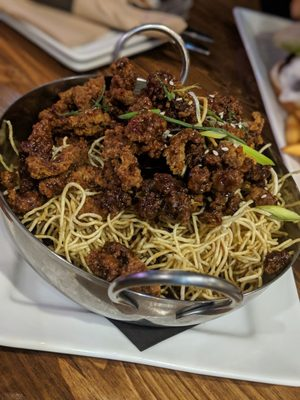sushi: (0, 36, 299, 347)
